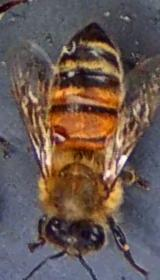varroa_mite: (44, 118, 74, 150)
